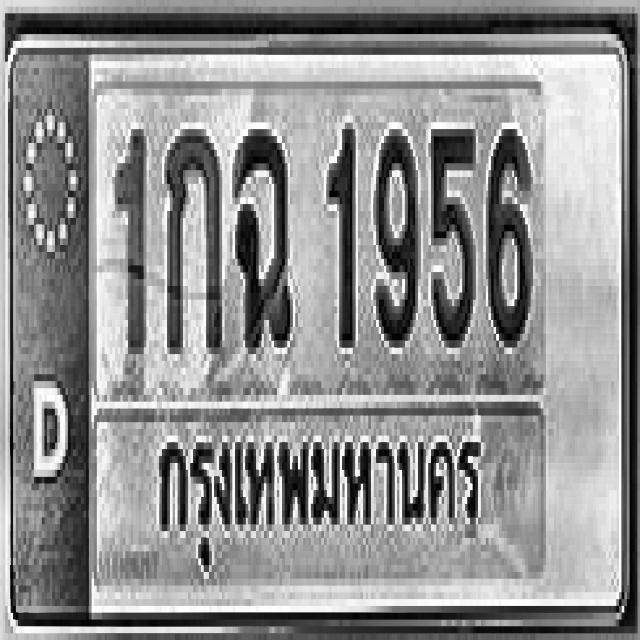license-plate: (7, 31, 631, 626)
